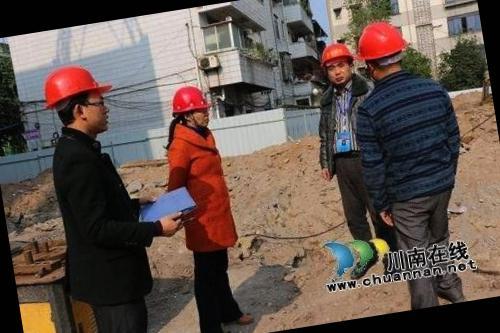helmet: (31, 56, 118, 110), (352, 18, 409, 66), (168, 79, 214, 116), (316, 36, 356, 68)
no_vest: (44, 132, 162, 312), (368, 78, 464, 203), (162, 133, 242, 256), (318, 85, 369, 156)
person: (348, 9, 486, 312), (32, 57, 176, 333), (149, 76, 257, 333), (302, 36, 392, 272)
